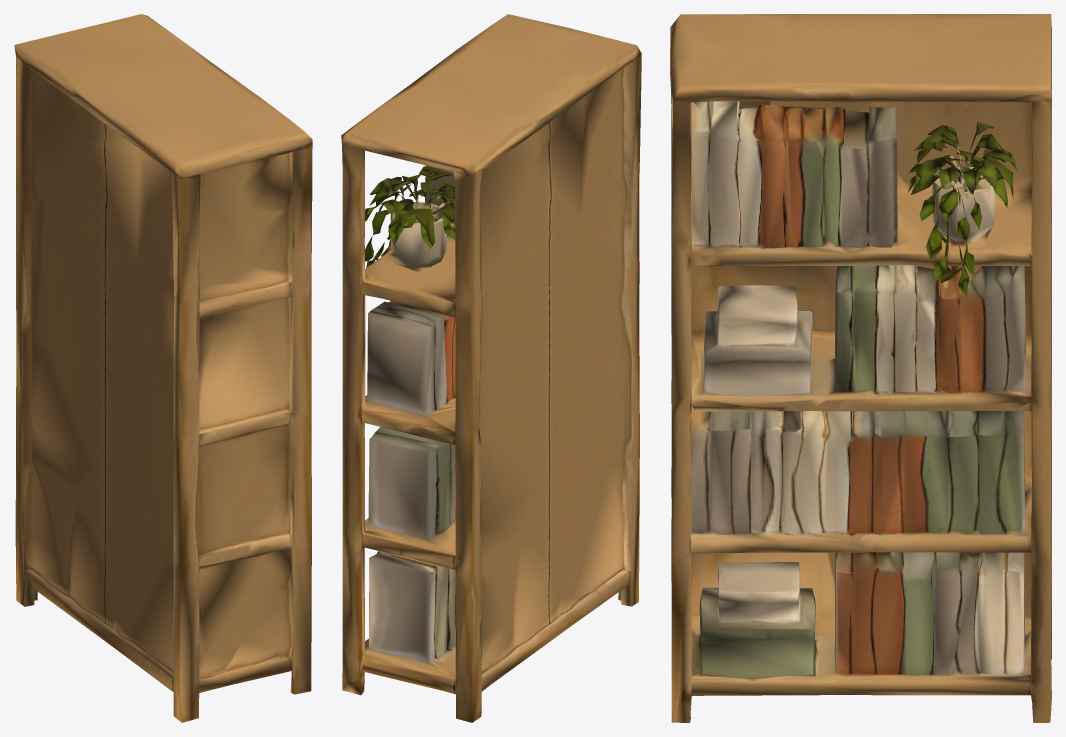
The model's file is estante.glb.
The picture shows the model from 3 angles, left to right: view 1: azimuth 30°, elevation 25°; view 2: azimuth 150°, elevation 25°; view 3: azimuth 270°, elevation 25°; orthographic projection. The views are drawn at different scales.
Parts seen in each view (by area): view 1: tripo_node_f909b718-8583-4a15-a5b4-850076c3a1f9; view 2: tripo_node_f909b718-8583-4a15-a5b4-850076c3a1f9; view 3: tripo_node_f909b718-8583-4a15-a5b4-850076c3a1f9.
Part boxes in pixels (x1,y1,x2,y2): tripo_node_f909b718-8583-4a15-a5b4-850076c3a1f9: (14,14,312,722); tripo_node_f909b718-8583-4a15-a5b4-850076c3a1f9: (341,14,641,722); tripo_node_f909b718-8583-4a15-a5b4-850076c3a1f9: (670,14,1051,722).
Size of the model in its own units: 0.2786 by 0.9998 by 0.5434.
1 material, 1 textured.
